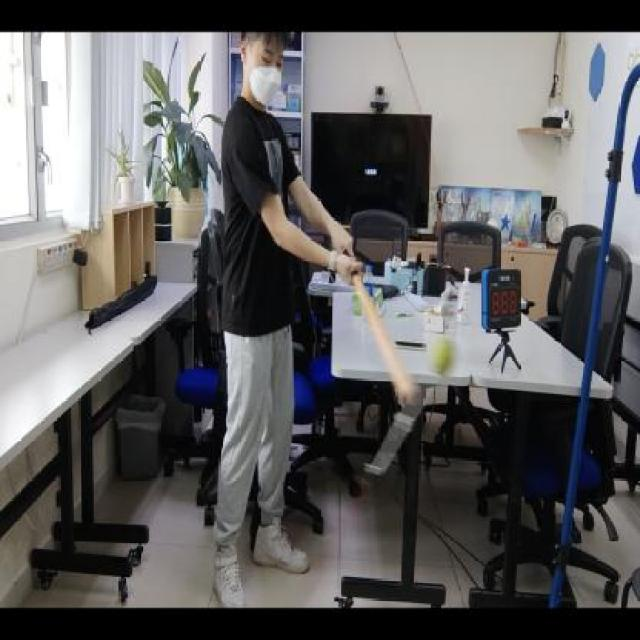baseball: (429, 333, 456, 381)
